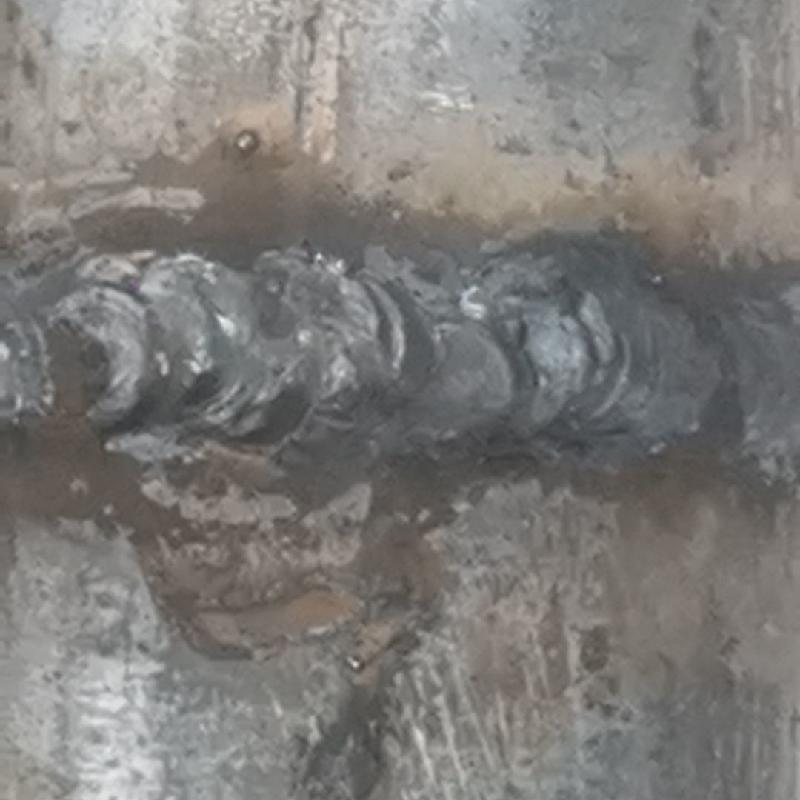good: (1, 240, 799, 466)
